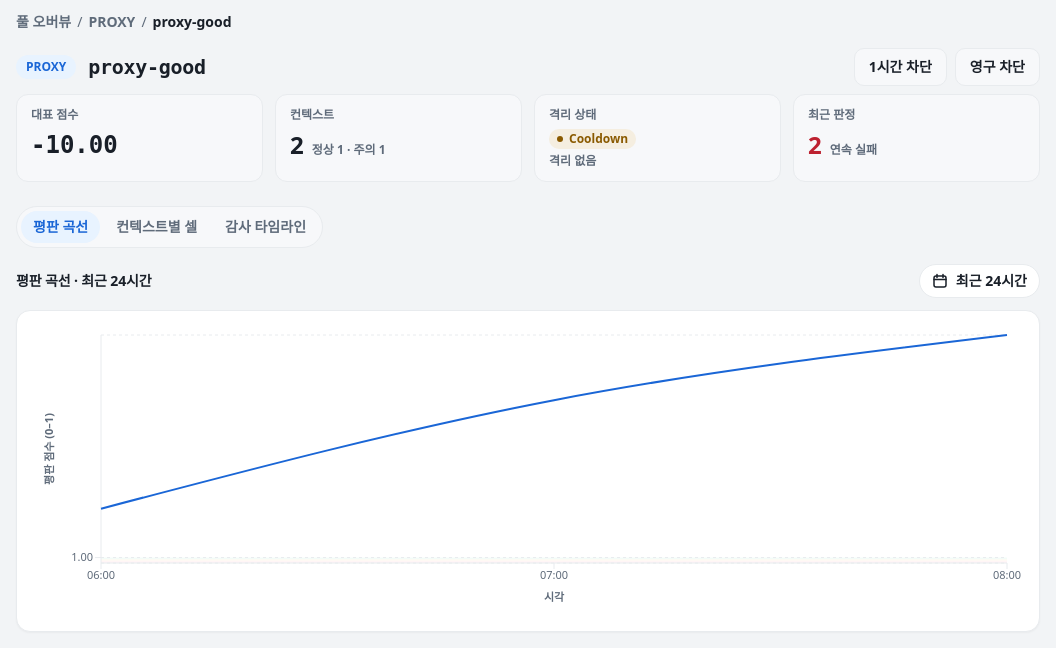
리소스 상세 화면 (integration + MSW) › 감사 타임라인 탭은 이 리소스(PROXY/proxy-good) 이벤트만 남긴다
Expected: the heading "proxy-good" is shown, x1=88 y1=55 x2=206 y2=79
What coordinates should you click on to do the following:
click the tab "감사 타임라인"
I would click on:
 (266, 227)
Its box is x1=213 y1=211 x2=318 y2=243.
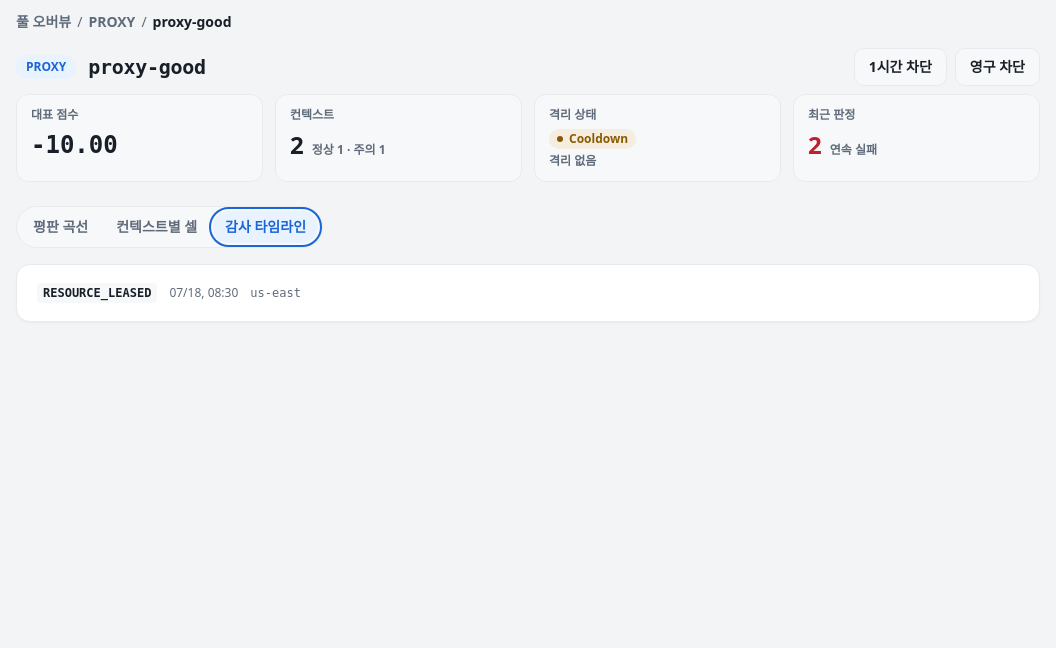
Now the text "RESOURCE_LEASED" is shown, box x1=37 y1=283 x2=157 y2=303
